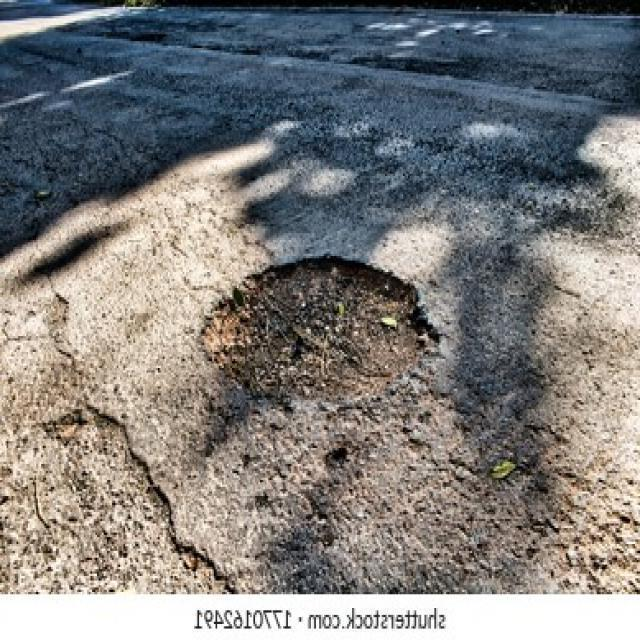pothole: (194, 252, 439, 410)
